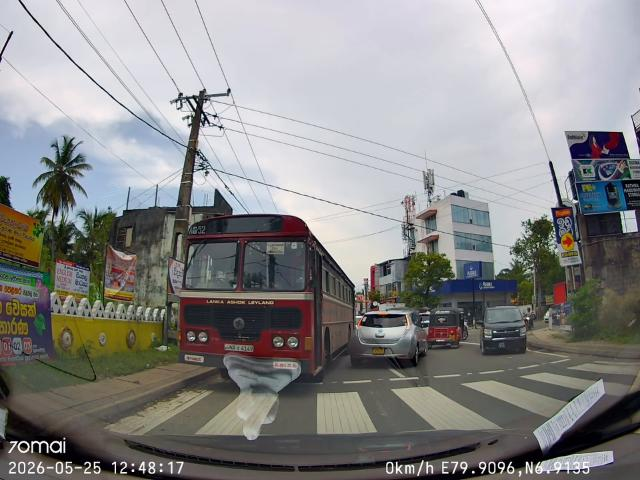illegal overtaking: (176, 200, 341, 383)
number plate: (223, 343, 261, 354)
